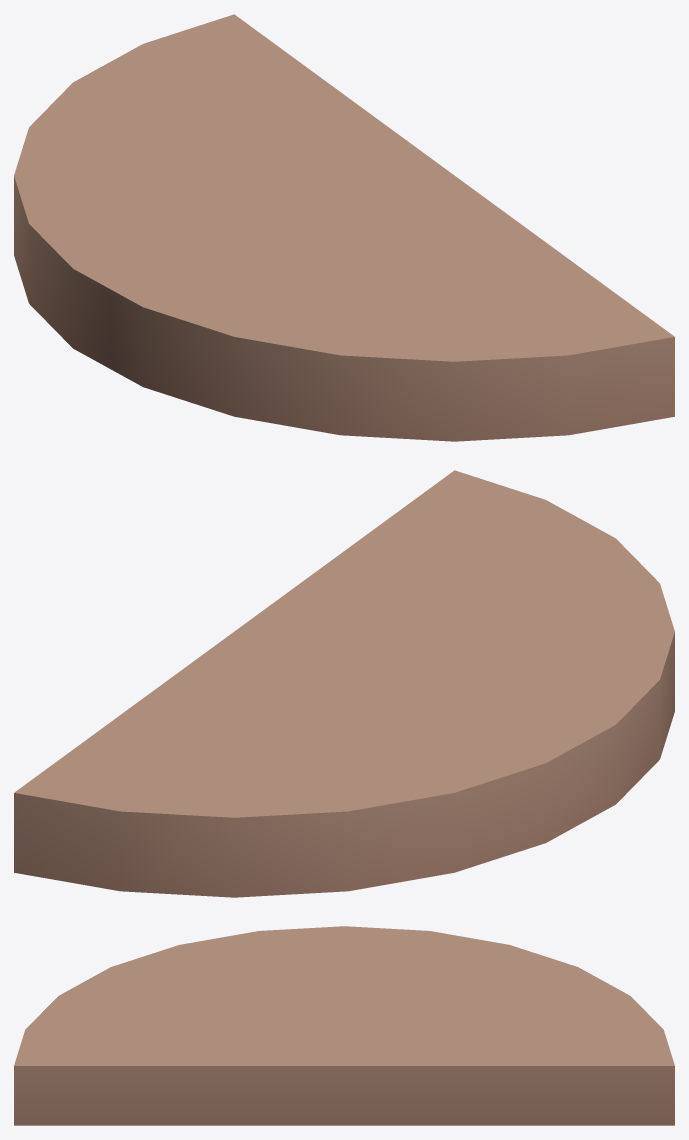
File: half-surface-round.glb
3 renders of one model, top to bottom at view 1: azimuth 30°, elevation 25°; view 2: azimuth 150°, elevation 25°; view 3: azimuth 270°, elevation 25°, orthographic. The views are drawn at different scales.
Visible parts, largest first — view 1: half-surface-round; view 2: half-surface-round; view 3: half-surface-round.
Part boxes in pixels (left/top/right/bottom): half-surface-round: left=14, top=14, right=674, bottom=441; half-surface-round: left=14, top=470, right=674, bottom=897; half-surface-round: left=14, top=926, right=674, bottom=1125.
Bounding box in the file's own units: 0.5 × 0.1 × 1.
